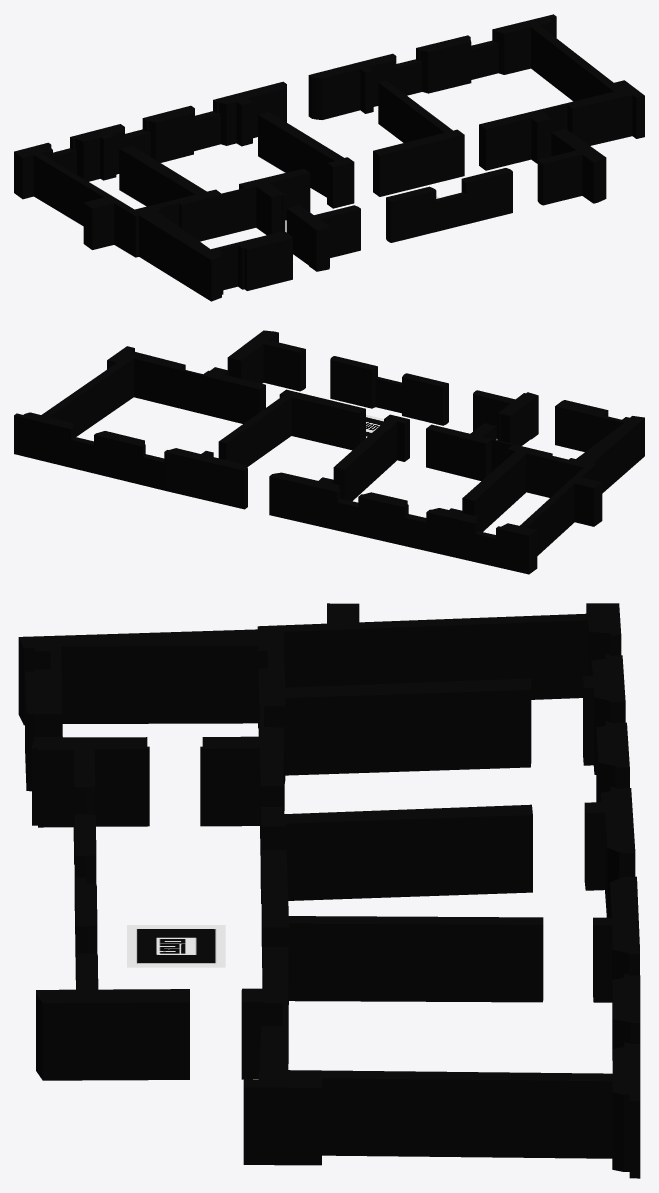
Rendered from solomuri.obj.
The picture shows the model from 3 angles, top to bottom: view 1: azimuth 30°, elevation 25°; view 2: azimuth 150°, elevation 25°; view 3: azimuth 270°, elevation 25°; orthographic projection. The views are drawn at different scales.
Bounding box in the file's own units: 510 × 37 × 269.
